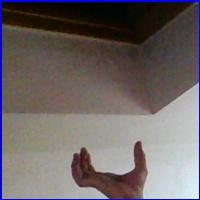space: (66, 143, 158, 197)
